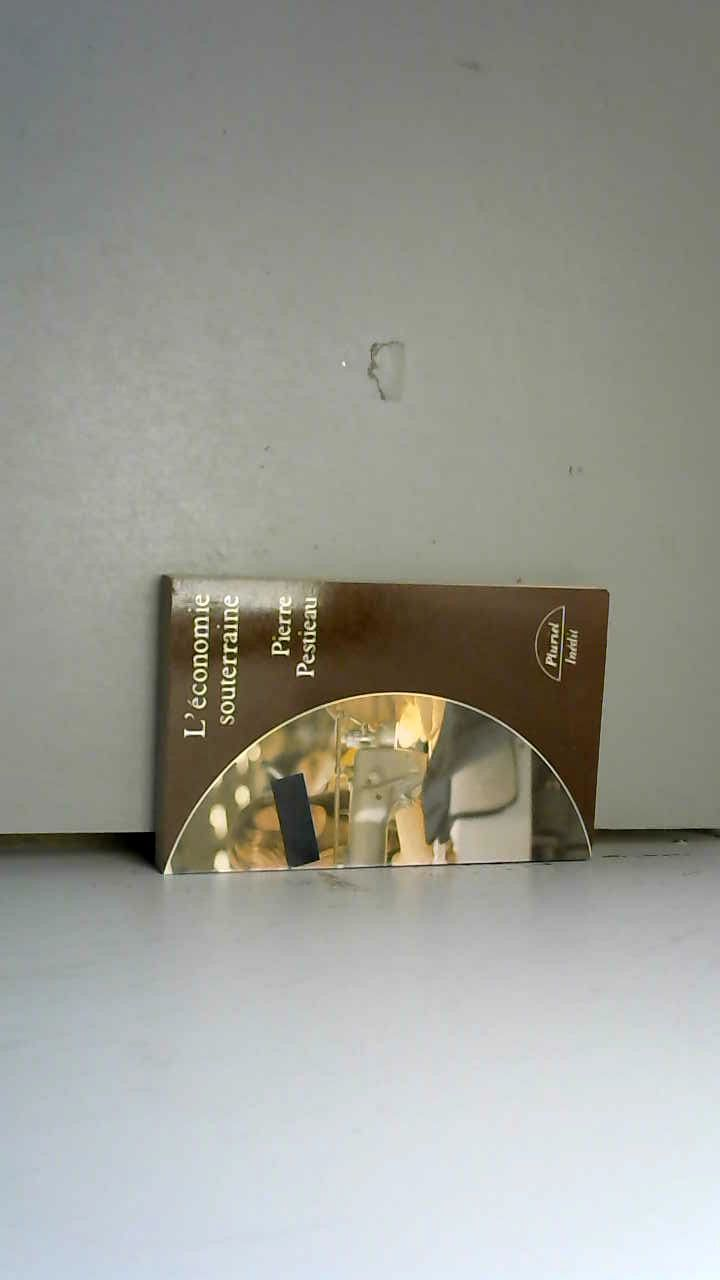book: (141, 555, 625, 892)
